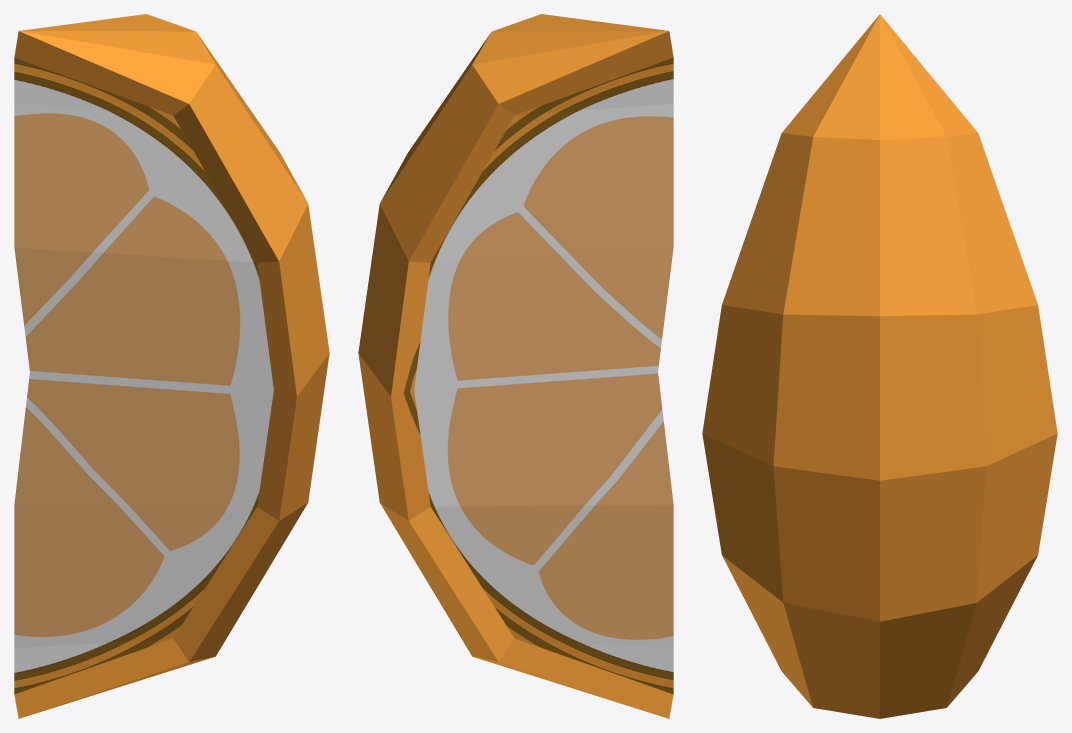
File: orange_slice.fbx
The picture shows the model from 3 angles, left to right: view 1: azimuth 30°, elevation 25°; view 2: azimuth 150°, elevation 25°; view 3: azimuth 270°, elevation 25°; orthographic projection. The views are drawn at different scales.
Parts seen in each view (by area): view 1: lemon.002; view 2: lemon.002; view 3: lemon.002.
Part boxes in pixels (left/top/right/bottom): lemon.002: left=14, top=14, right=329, bottom=718; lemon.002: left=358, top=14, right=673, bottom=718; lemon.002: left=702, top=14, right=1057, bottom=718.
Size of the model in its own units: 197 by 446 by 216.
